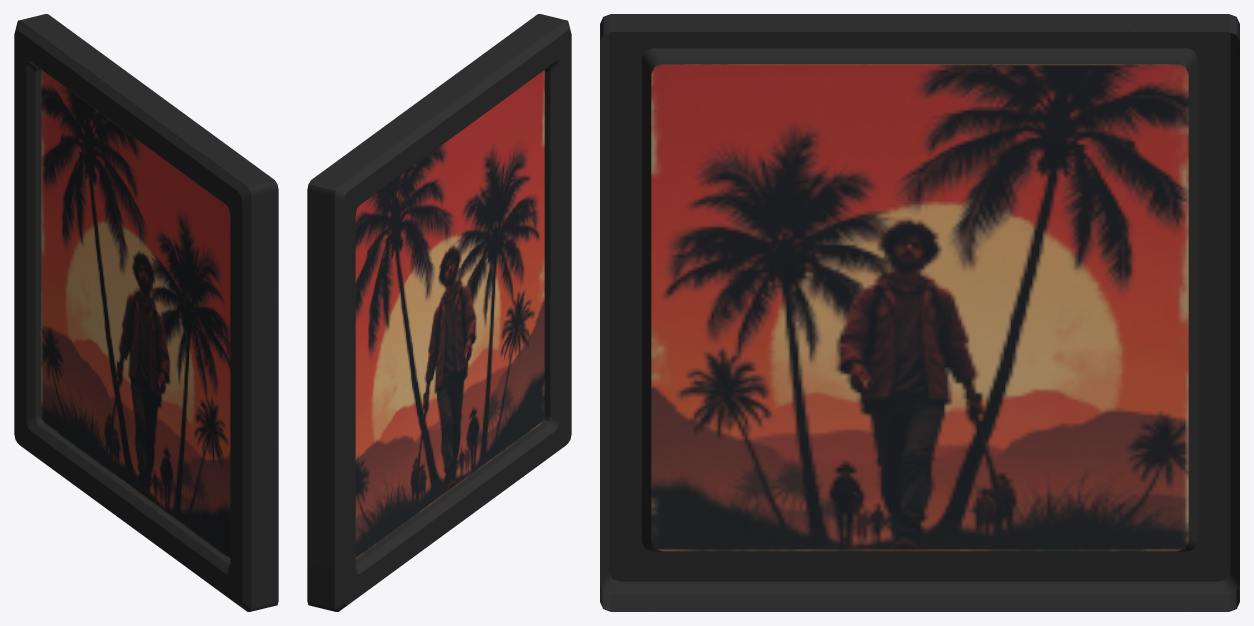
Rendered from SM_Frame2.fbx.
3 renders of one model, left to right at view 1: azimuth 30°, elevation 25°; view 2: azimuth 150°, elevation 25°; view 3: azimuth 270°, elevation 25°, orthographic. The views are drawn at different scales.
Parts seen in each view (by area): view 1: SM_Frame2_LOD0; view 2: SM_Frame2_LOD0; view 3: SM_Frame2_LOD0.
Boxes of the visible parts, box(x1,y1,x2,y2) form: SM_Frame2_LOD0: box(14, 14, 278, 611); SM_Frame2_LOD0: box(307, 14, 571, 611); SM_Frame2_LOD0: box(600, 14, 1239, 611).
Bounding box in the file's own units: 4.08 × 50 × 50.
Materials: 1 (1 with a texture image).
